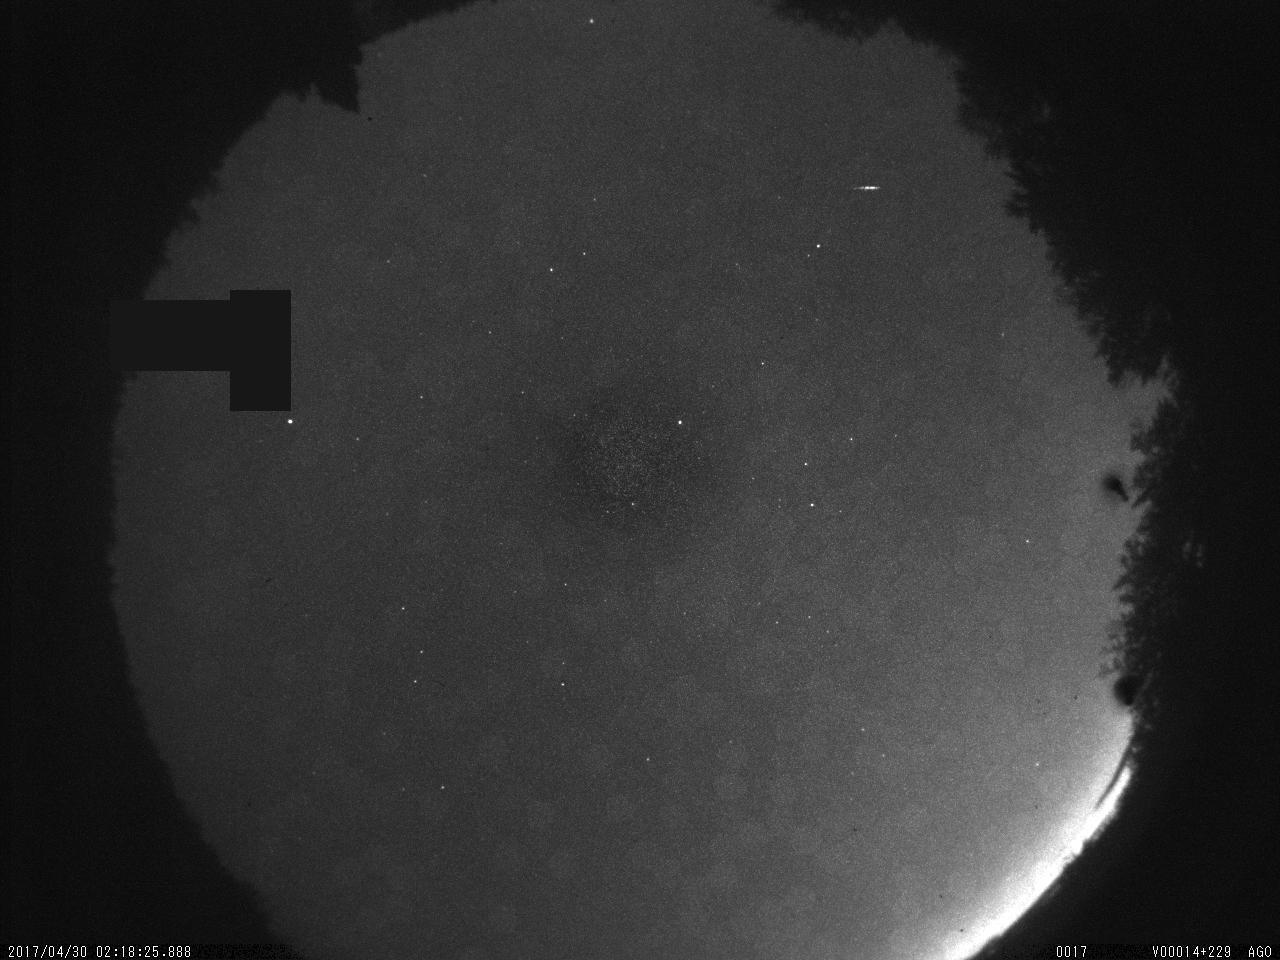meteor: (849, 173, 894, 205)
